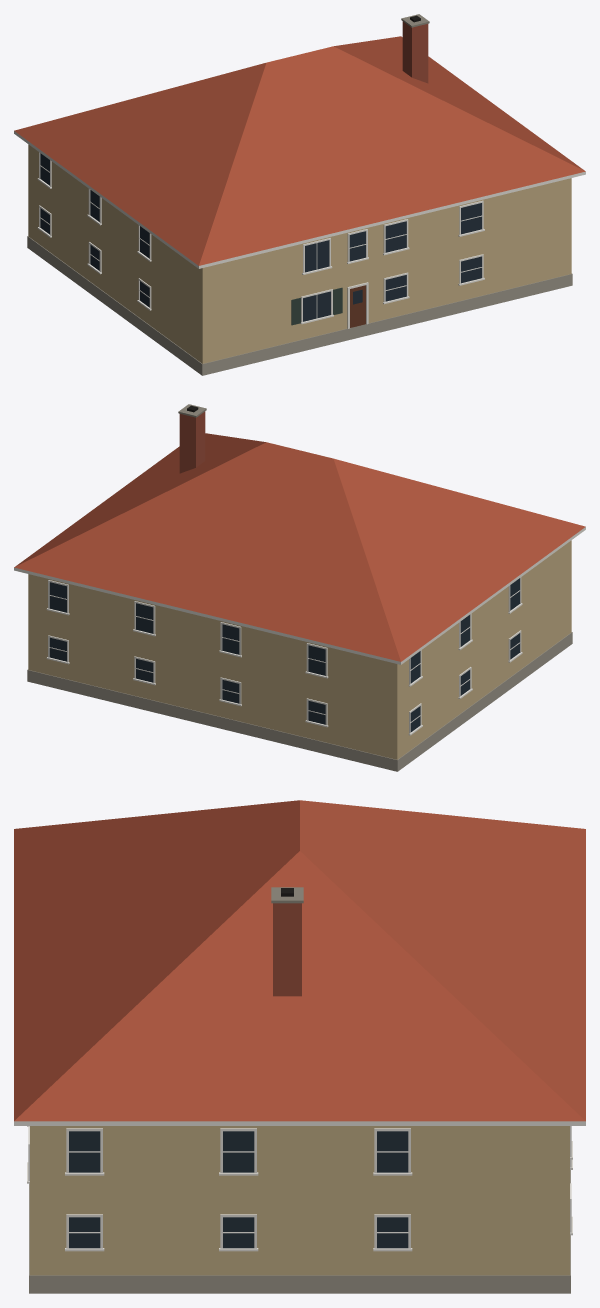
File: spanish-court-apartments.glb
3 views of the same model, one above another, from view 1: azimuth 30°, elevation 25°; view 2: azimuth 150°, elevation 25°; view 3: azimuth 270°, elevation 25° (orthographic). The views are drawn at different scales.
Parts seen in each view (by area): view 1: hillcrest_roof, hillcrest_wall, hillcrest_foundation, hillcrest_trim, hillcrest_glass, hillcrest_lr61_brick_red, hillcrest_door, hillcrest_shutter; view 2: hillcrest_roof, hillcrest_wall, hillcrest_foundation, hillcrest_trim, hillcrest_glass, hillcrest_lr61_brick_red; view 3: hillcrest_roof, hillcrest_wall, hillcrest_foundation, hillcrest_glass, hillcrest_trim, hillcrest_lr61_brick_red.
Boxes of the visible parts, <box> form: hillcrest_roof: <box>14,36,585,265</box>; hillcrest_wall: <box>28,144,571,363</box>; hillcrest_foundation: <box>27,236,572,375</box>; hillcrest_trim: <box>14,131,585,328</box>; hillcrest_glass: <box>40,153,481,321</box>; hillcrest_lr61_brick_red: <box>402,21,428,83</box>; hillcrest_door: <box>350,285,365,327</box>; hillcrest_shutter: <box>291,287,342,325</box>; hillcrest_roof: <box>14,433,585,661</box>; hillcrest_wall: <box>28,540,571,759</box>; hillcrest_foundation: <box>27,632,572,771</box>; hillcrest_trim: <box>14,527,585,735</box>; hillcrest_glass: <box>49,578,519,732</box>; hillcrest_lr61_brick_red: <box>179,411,205,473</box>; hillcrest_roof: <box>14,800,585,1121</box>; hillcrest_wall: <box>30,1126,569,1275</box>; hillcrest_foundation: <box>29,1170,570,1293</box>; hillcrest_glass: <box>69,1131,408,1248</box>; hillcrest_trim: <box>14,1121,585,1251</box>; hillcrest_lr61_brick_red: <box>273,903,301,996</box>.
Size of the model in its own units: 21.55 by 11.94 by 17.82.
